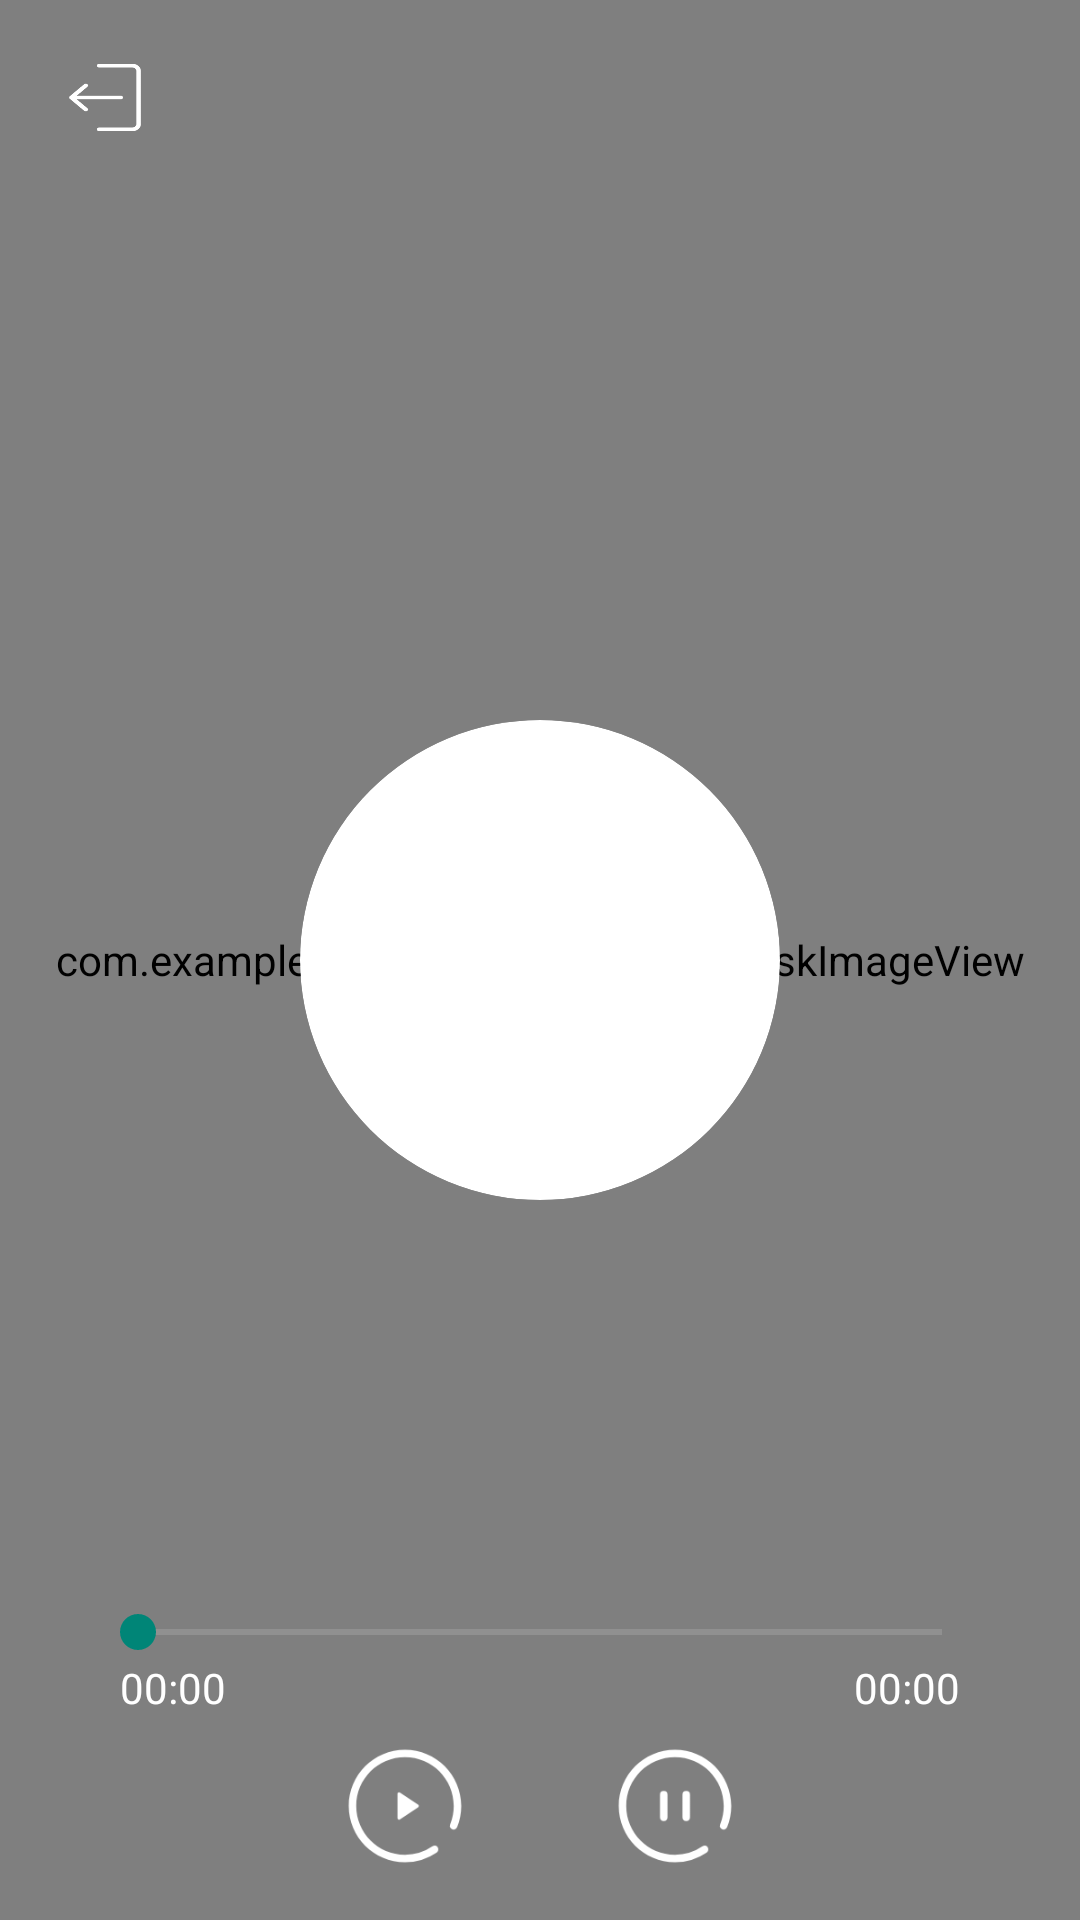

Point at icon controls on the screen. Image size 1080 × 1920, points as (x,y).
exit: (105,97)
pause: (675,1806)
play: (405,1806)
